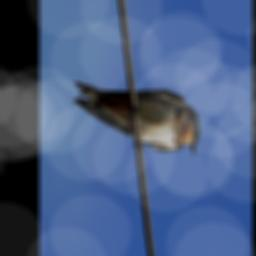Swallow: (71, 42, 204, 194)
